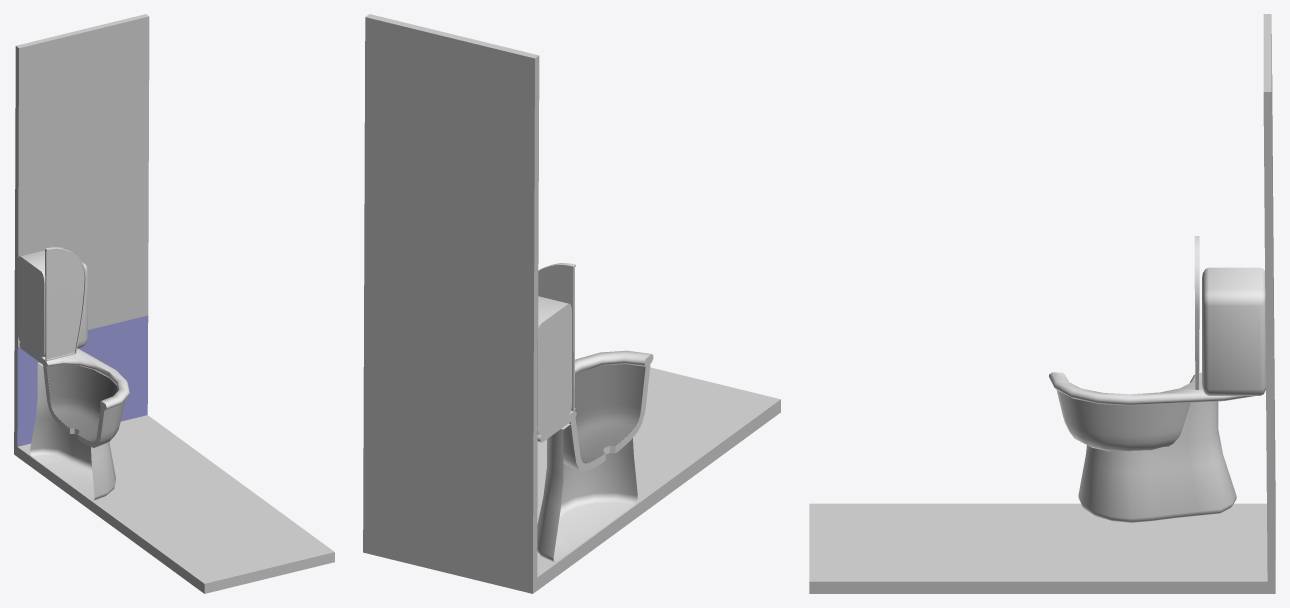
File: Lavabo02.fbx
3 renders of one model, left to right at view 1: azimuth 30°, elevation 25°; view 2: azimuth 150°, elevation 25°; view 3: azimuth 270°, elevation 25°, orthographic. The views are drawn at different scales.
Parts seen in each view (by area): view 1: Cube.012, Cube.003, Cube.001, Cylinder.001, Cube.011, Cube, Cube.002; view 2: Cube.012, Cube.003, Cylinder.001, Cube.001, Cube, Cube.011, Cube.002; view 3: Cube.003, Cylinder.001, Cube, Cube.012, Cube.001, Cube.002, Cube.011.
Part boxes in pixels (<box>): Cube.012: <box>14,14,149,456</box>; Cube.003: <box>17,415,334,593</box>; Cube.001: <box>42,362,124,447</box>; Cylinder.001: <box>30,362,115,500</box>; Cube.011: <box>45,247,86,360</box>; Cube: <box>17,247,87,357</box>; Cube.002: <box>19,342,129,410</box>; Cube.012: <box>363,14,539,593</box>; Cube.003: <box>537,367,780,590</box>; Cylinder.001: <box>537,423,637,562</box>; Cube.001: <box>563,359,650,471</box>; Cube: <box>537,296,571,435</box>; Cube.011: <box>538,263,575,411</box>; Cube.002: <box>537,350,653,442</box>; Cube.003: <box>809,503,1267,593</box>; Cylinder.001: <box>1078,401,1236,522</box>; Cube: <box>1202,267,1265,395</box>; Cube.012: <box>1263,14,1275,593</box>; Cube.001: <box>1056,390,1190,451</box>; Cube.002: <box>1049,372,1254,405</box>; Cube.011: <box>1194,236,1199,389</box>.
Size of the model in its own units: 42.58 by 128 by 108.
